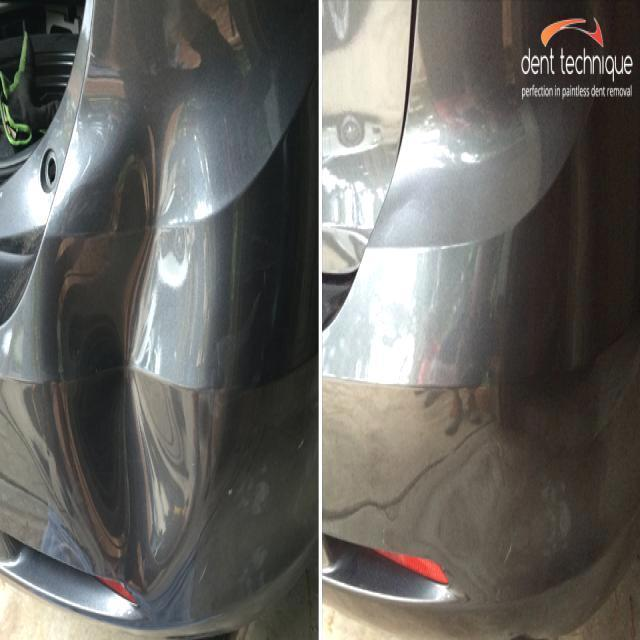minor: (34, 68, 239, 596)
